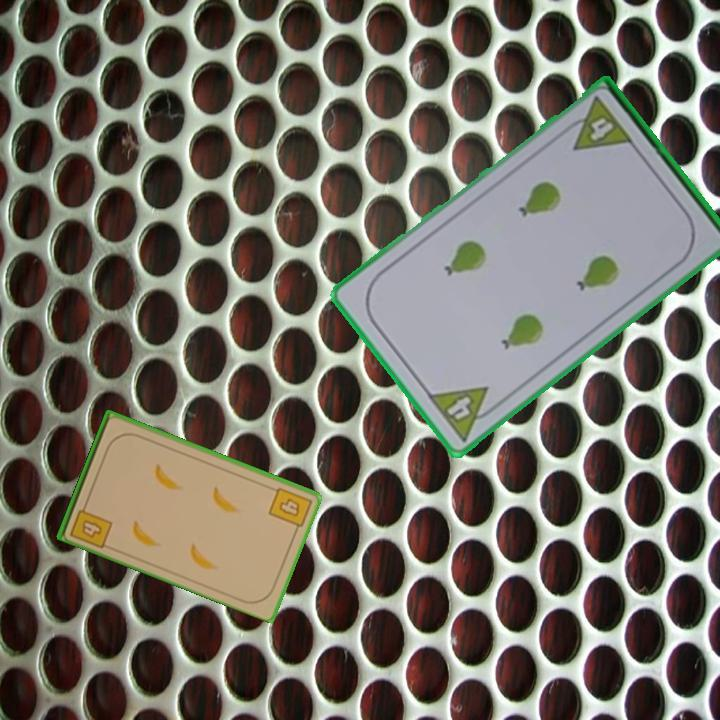4b: (66, 497, 115, 551), (265, 483, 314, 536)
4p: (423, 383, 504, 445), (558, 93, 636, 155)
